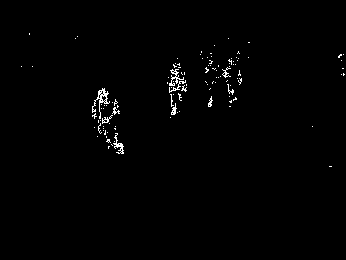person: (90, 88, 126, 154), (165, 61, 189, 116), (223, 57, 245, 107), (204, 59, 222, 109)
